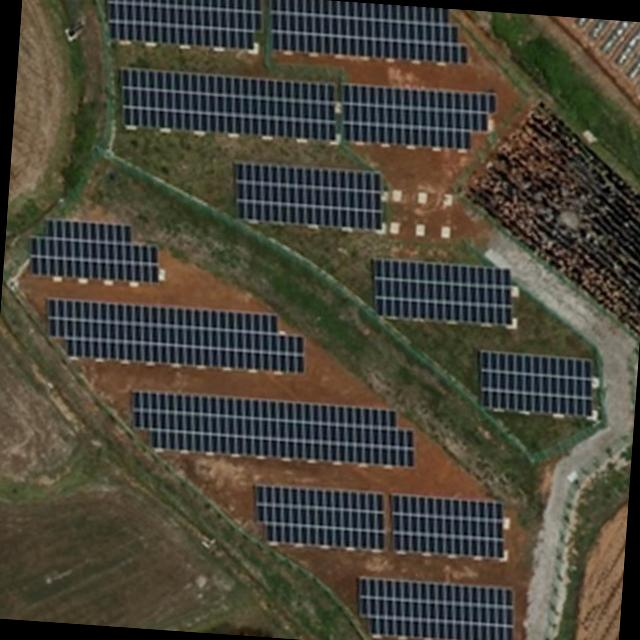solar: (124, 387, 422, 469), (42, 293, 310, 379), (114, 65, 343, 143), (270, 0, 474, 66), (336, 82, 500, 155), (350, 571, 518, 640), (361, 257, 522, 328), (228, 160, 388, 230), (246, 480, 392, 552), (470, 346, 601, 422), (22, 216, 166, 284), (100, 0, 264, 53), (383, 493, 511, 560)
